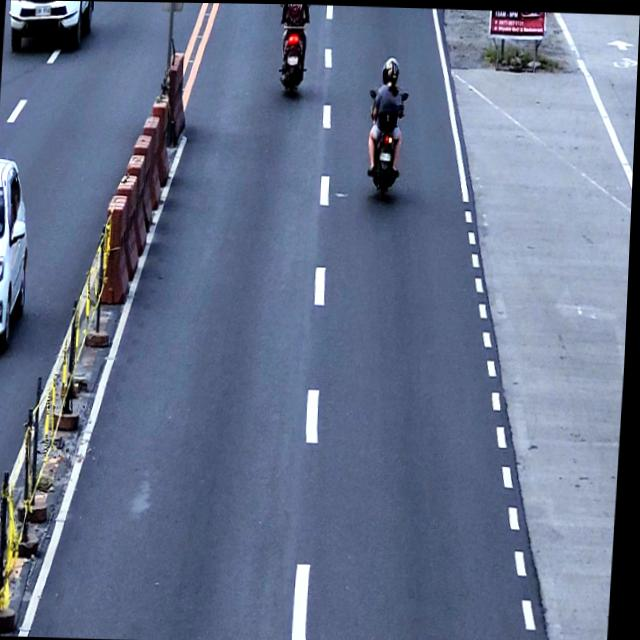Car: (0, 155, 34, 347), (6, 0, 94, 53)
License-Plate: (34, 3, 51, 17), (287, 55, 299, 65), (381, 150, 392, 159)
Motorcycle: (364, 86, 409, 199), (276, 19, 309, 96)
